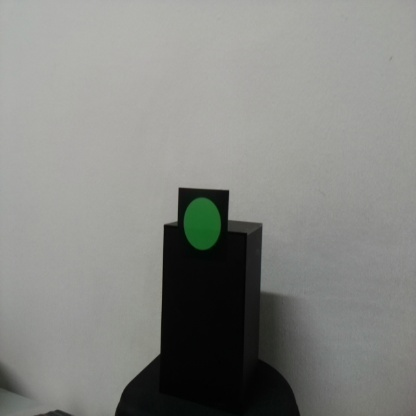id_5: (179, 189, 229, 261)
